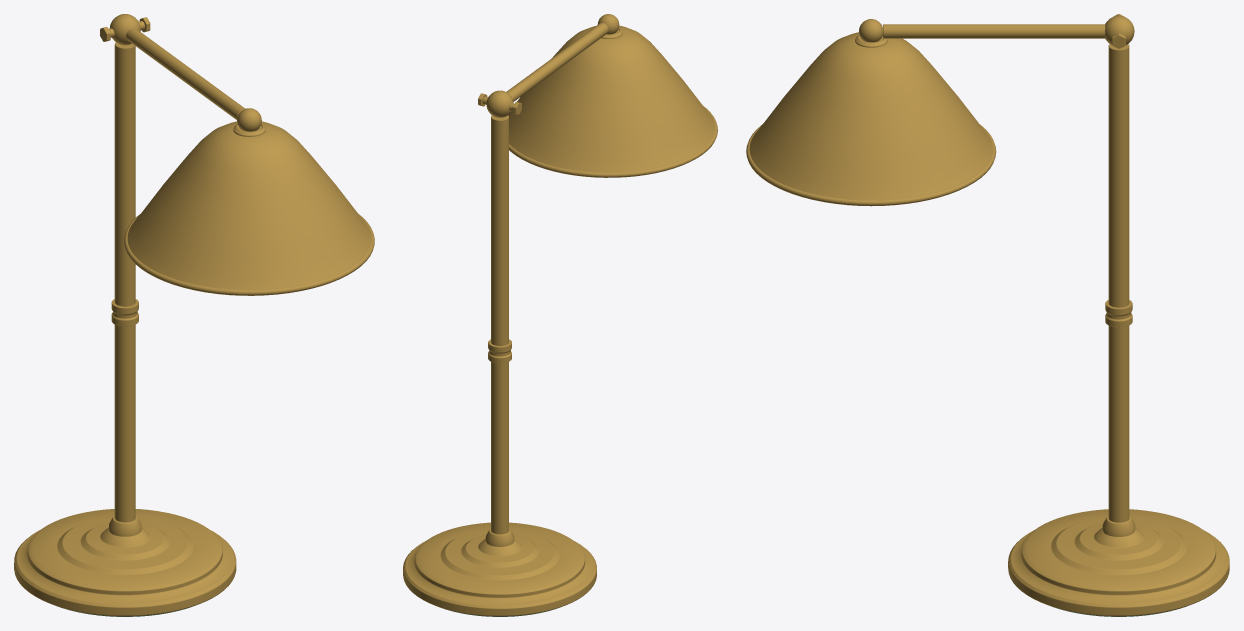
Rendered from desklamp.glb.
The picture shows the model from 3 angles, left to right: view 1: azimuth 30°, elevation 25°; view 2: azimuth 150°, elevation 25°; view 3: azimuth 270°, elevation 25°; orthographic projection. The views are drawn at different scales.
Visible parts, largest first — view 1: body; view 2: body; view 3: body.
Part boxes in pixels (<box>): body: <box>14,14,374,616</box>; body: <box>403,14,717,616</box>; body: <box>746,14,1229,616</box>.
Bounding box in the file's own units: 0.1918 × 0.47 × 0.3709.
